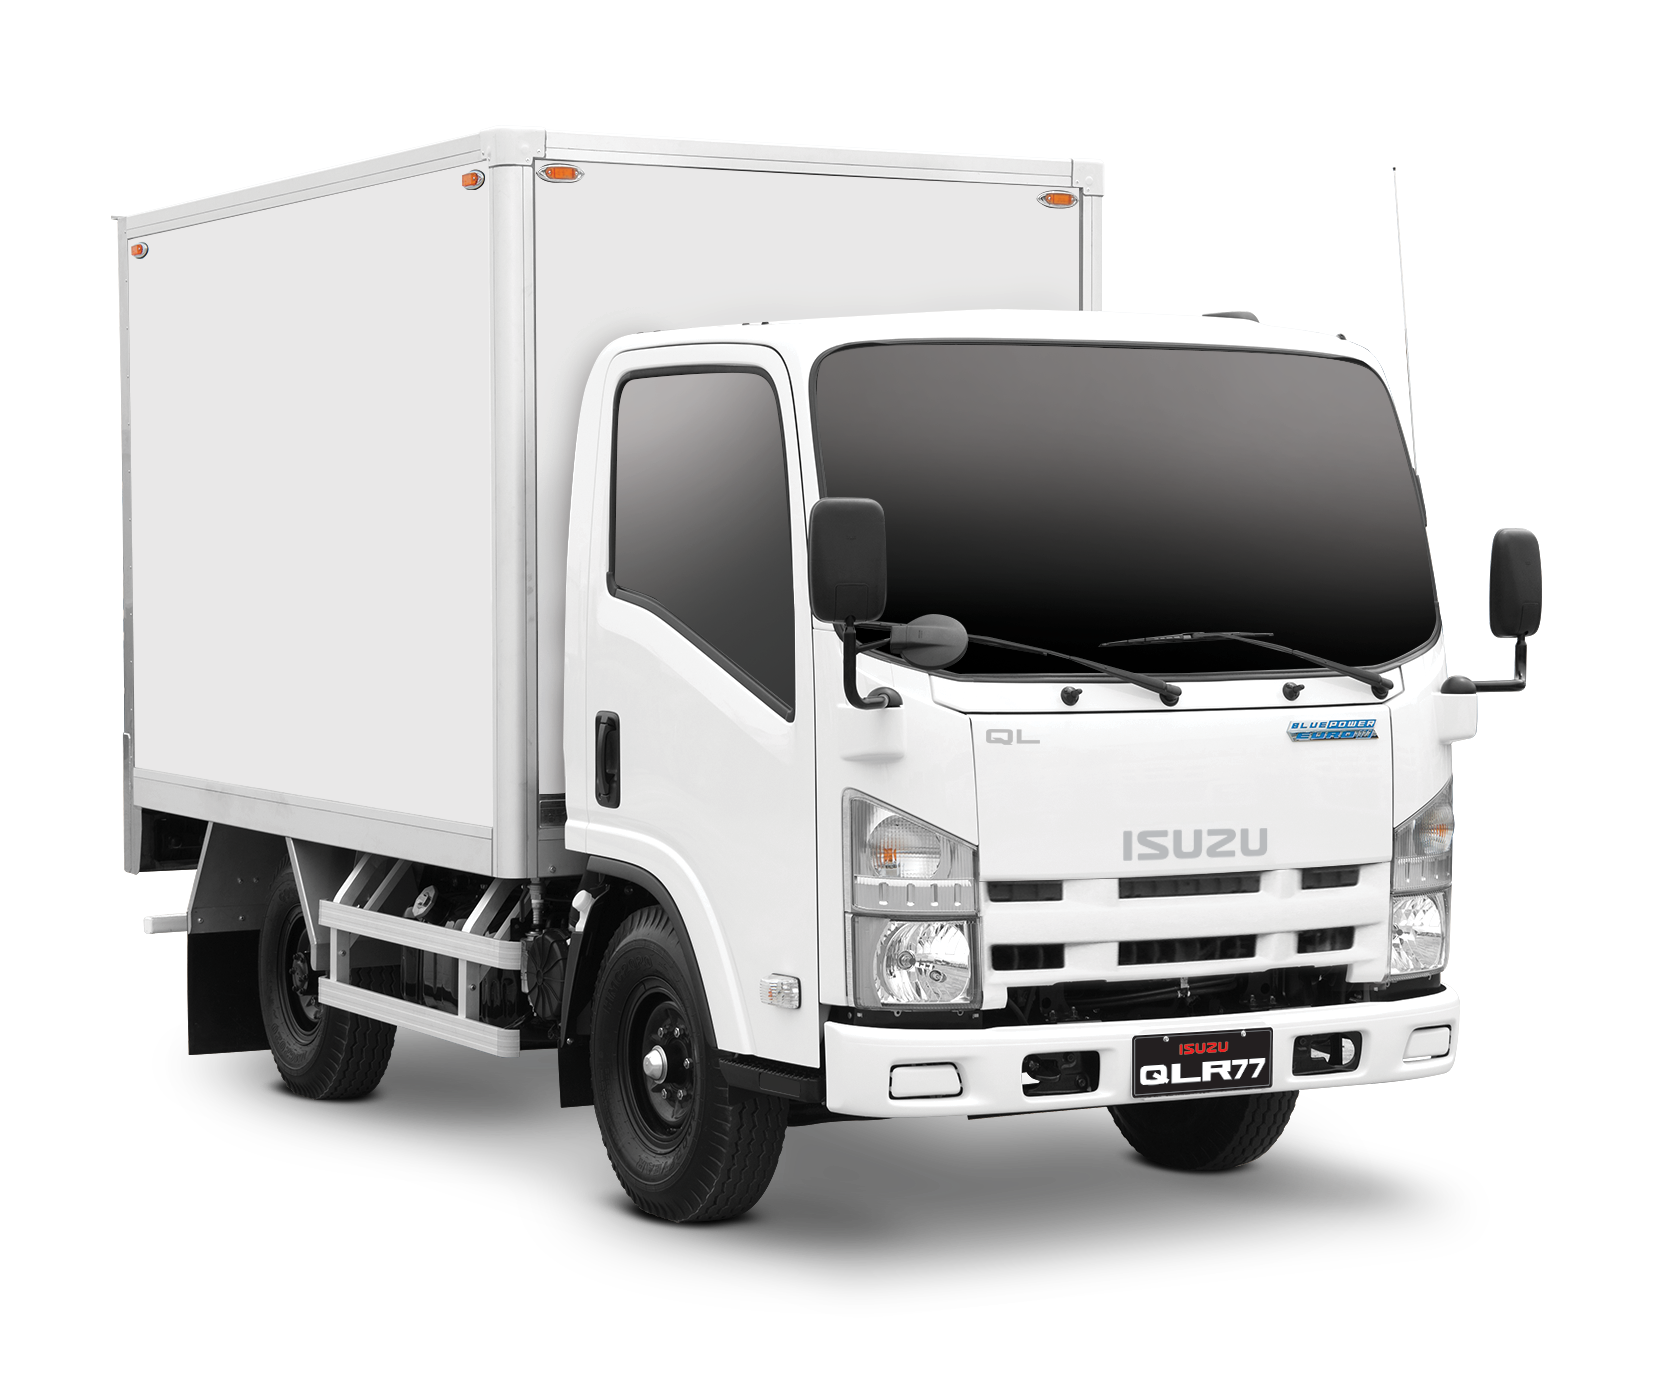truck: (114, 128, 1545, 1225)
